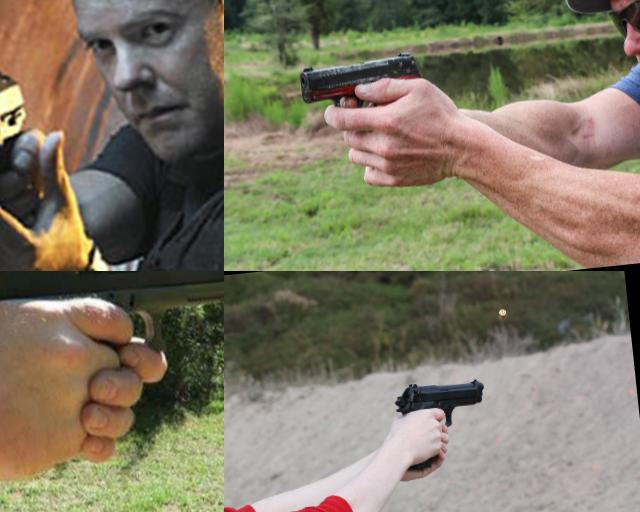handgun: (0, 271, 224, 404), (295, 48, 431, 142), (0, 64, 68, 238), (390, 374, 496, 477)
